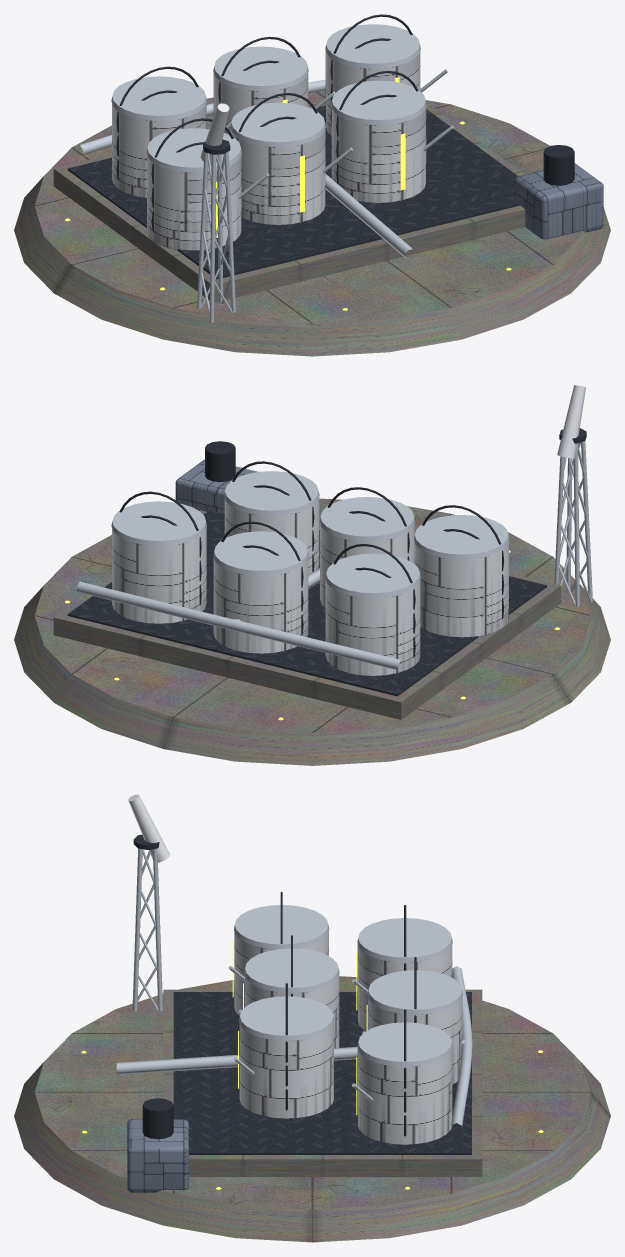
The model's file is tankfarm-T3.glb.
3 views of the same model, one above another, from view 1: azimuth 30°, elevation 25°; view 2: azimuth 150°, elevation 25°; view 3: azimuth 270°, elevation 25° (orthographic).
Parts seen in each view (by area): view 1: object 1, object 13, object 12, object 49, object 42, object 35, object 58, object 14, object 29, object 15, object 43, object 50 (+8 smaller); view 2: object 1, object 12, object 13, object 35, object 14, object 21, object 28, object 56, object 50, object 43, object 22, object 36 (+7 smaller); view 3: object 1, object 13, object 12, object 28, object 49, object 58, object 22, object 50, object 36, object 29, object 15, object 43 (+8 smaller).
Part boxes in pixels (x1,y1,x2,y2): object 1: (14, 91, 610, 356); object 13: (67, 105, 519, 279); object 12: (53, 102, 525, 302); object 49: (331, 107, 426, 202); object 42: (231, 129, 325, 224); object 35: (147, 154, 241, 250); object 58: (514, 163, 603, 239); object 14: (112, 103, 206, 197); object 29: (325, 24, 420, 68); object 15: (111, 76, 206, 120); object 43: (230, 102, 325, 147); object 50: (331, 80, 426, 125); object 1: (14, 498, 610, 765); object 12: (53, 510, 560, 719); object 13: (67, 510, 546, 696); object 35: (414, 541, 508, 637); object 14: (325, 580, 420, 675); object 21: (213, 558, 308, 653); object 28: (112, 528, 206, 623); object 56: (77, 581, 400, 670); object 50: (224, 471, 319, 515); object 43: (319, 497, 414, 541); object 22: (213, 531, 308, 575); object 36: (414, 515, 509, 559); object 1: (14, 976, 610, 1242); object 13: (173, 992, 471, 1154); object 12: (163, 989, 482, 1176); object 28: (357, 1048, 452, 1144); object 49: (239, 1023, 333, 1118); object 58: (127, 1119, 188, 1192); object 22: (367, 970, 463, 1014); object 50: (239, 996, 334, 1040); object 36: (234, 905, 329, 949); object 29: (357, 1022, 452, 1066); object 15: (357, 918, 452, 962); object 43: (244, 948, 339, 992).
Bounding box in the file's own units: 5.8 × 2.51 × 5.8.
Materials: 10 (5 with a texture image).
